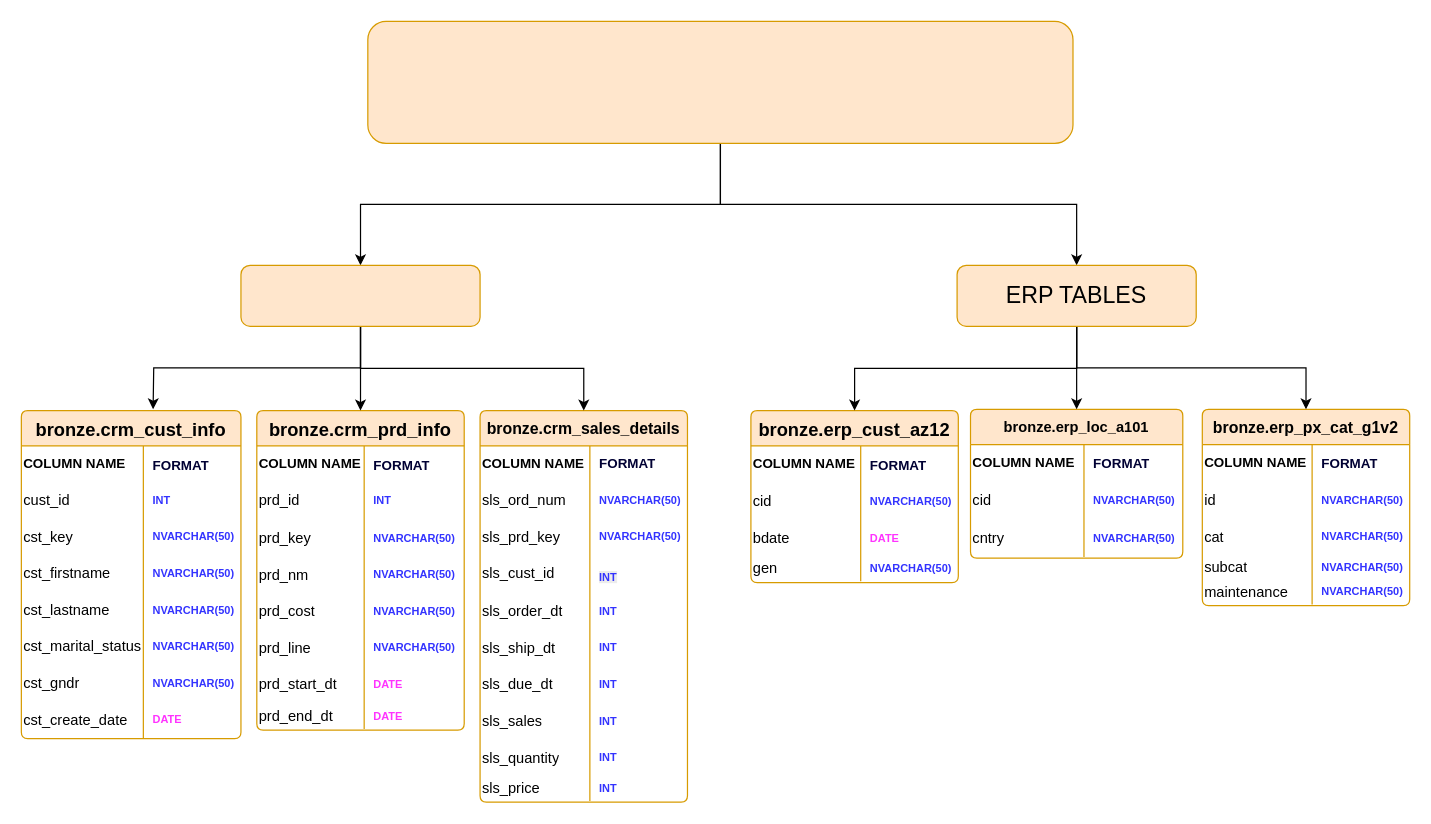
The diagram is 1431 pixels wide and 824 high, and some of its shapes have lost their labels. The centre of each missing label's shape, as x and y in pixels:
"BRONZE LAYER TABLES" belongs at point (720, 81).
"CRM TABLES" belongs at point (360, 295).
